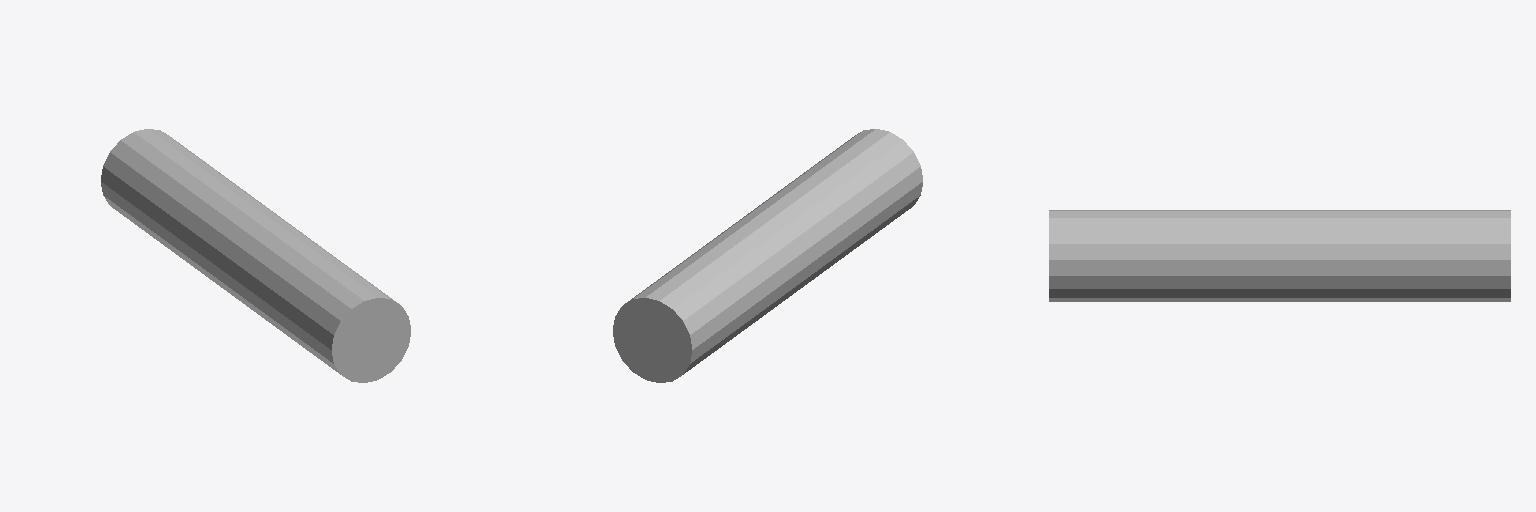
File: source_line.obj
The picture shows the model from 3 angles: view 1: azimuth 30°, elevation 25°; view 2: azimuth 150°, elevation 25°; view 3: azimuth 270°, elevation 25°; orthographic projection.
Size of the model in its own units: 0.1 by 0.0985 by 0.5.